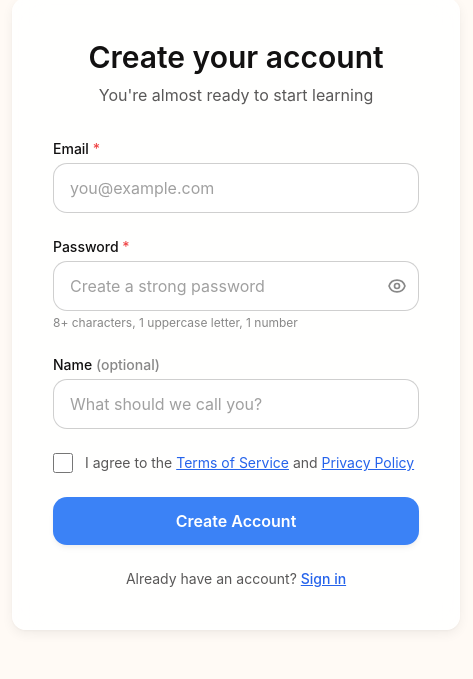
Test: AccountCreationPage › form validation › shows error for short password
Type "short" into the password field labelled "Password *". click: (236, 286)
box: [53, 261, 419, 311]
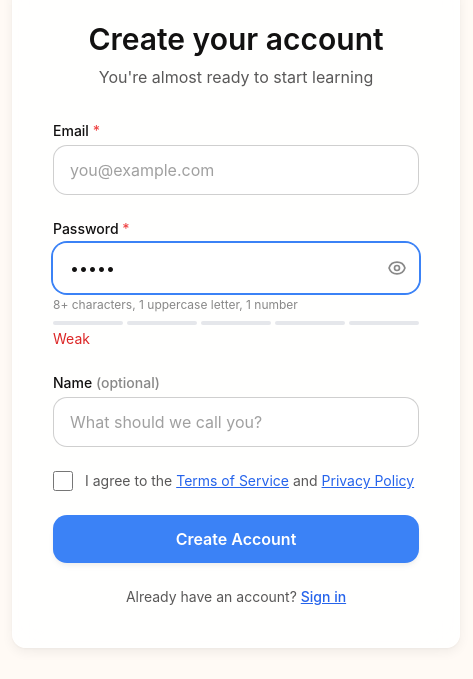
Press Tab
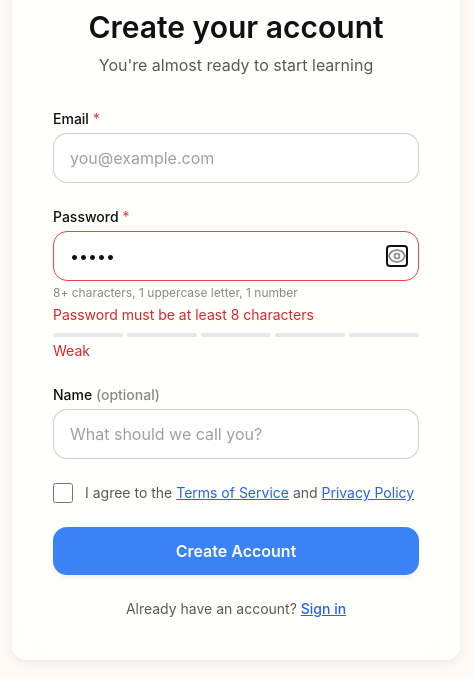
Expected: the text "Password must be at least 8 characters" is shown, [53, 306, 314, 323]
